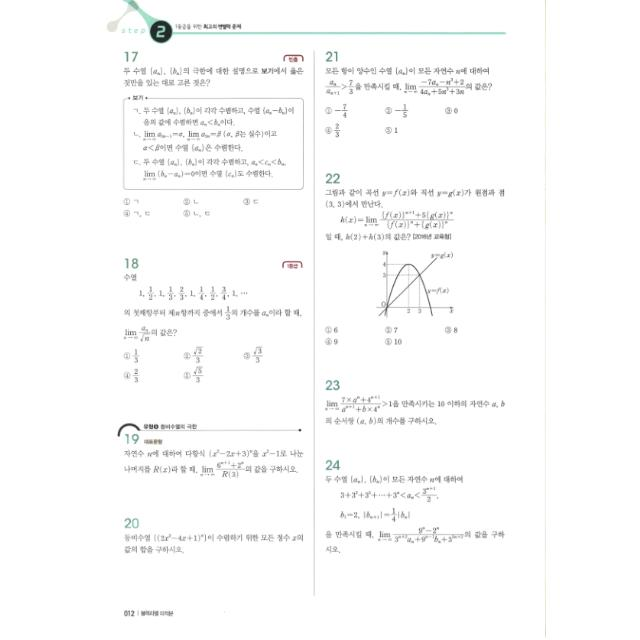multiple: (319, 164, 513, 358), (115, 39, 307, 229), (113, 248, 307, 400), (318, 42, 500, 144)
short: (316, 453, 514, 565), (109, 412, 309, 488), (318, 371, 516, 439), (113, 506, 310, 568)
